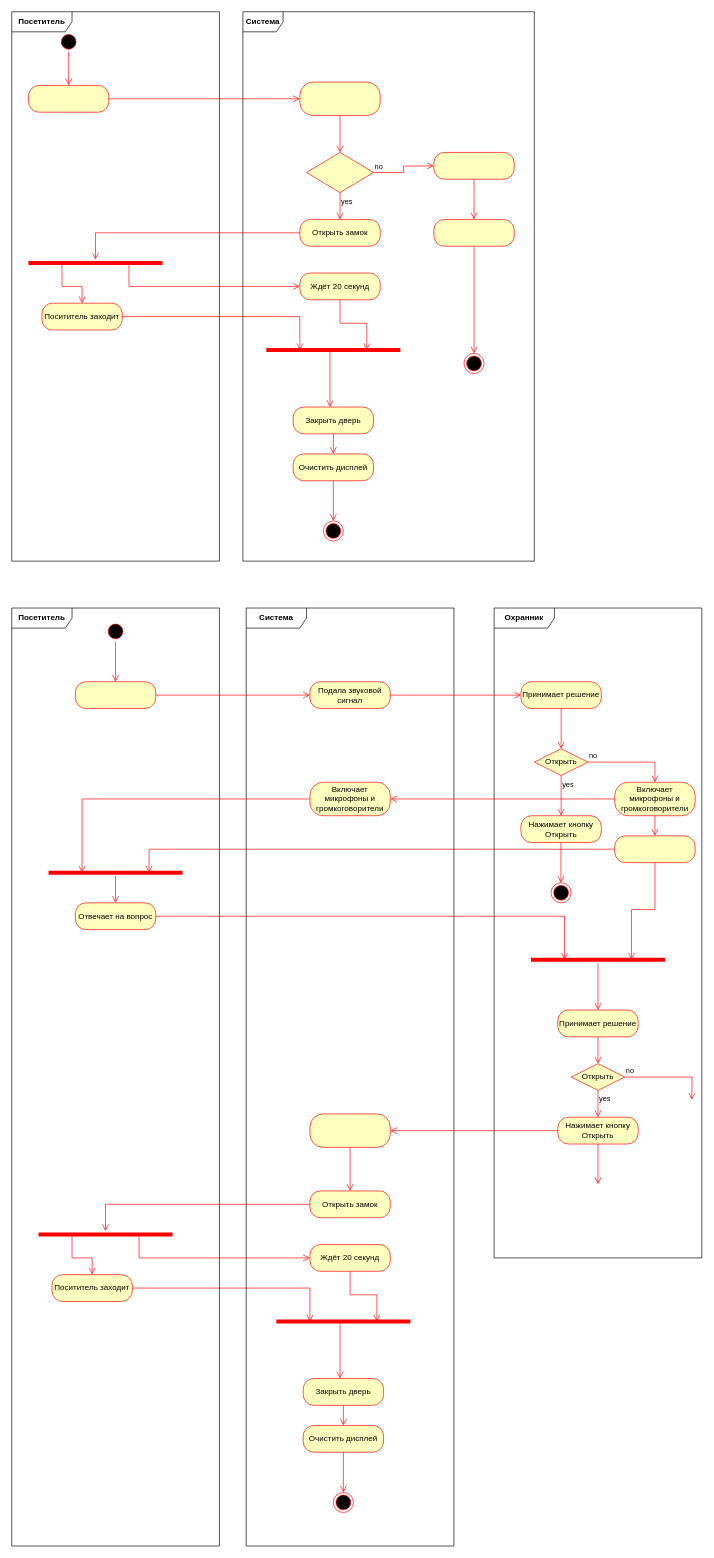
The diagram is 714 pixels wide and 1558 high, and some of its shapes have lost their labels. Each missing label, with the centre of its shape:
"Выдаёт звуковой сигнал" goes at (473,165).
"Выключает микрофоны и громкоговорители" goes at (349,1130).
"Задаёт вопрос" goes at (654,849).
"Код правильный" goes at (340,172).
"Набирает 4-х значный код" goes at (68,98).
"Нажал кнопку Вызов" goes at (115,695).
"Очищает дисплей" goes at (473,232).
"Проверяет введённый код доступа" goes at (339,98).
